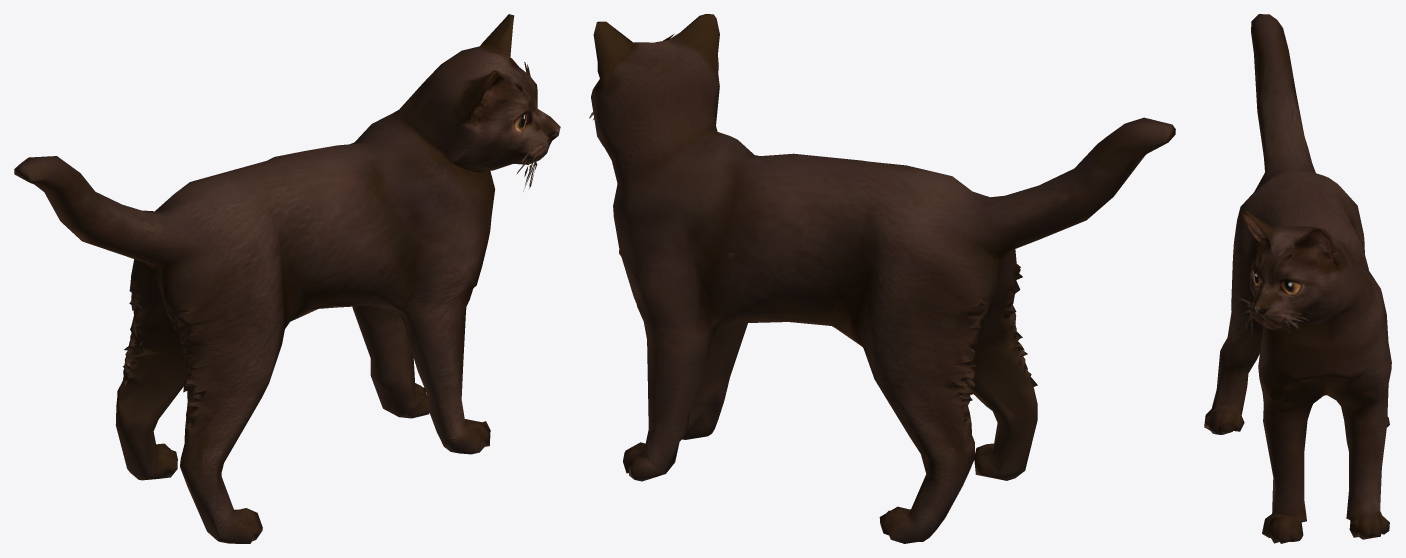
Rendered from UMBERPAW-lo.glb.
3 views of the same model, side by side, from view 1: azimuth 30°, elevation 25°; view 2: azimuth 150°, elevation 25°; view 3: azimuth 270°, elevation 25° (orthographic). The views are drawn at different scales.
Parts seen in each view (by area): view 1: tripo_node_56782b52-ac7c-49bb-a544-488ab23bb995; view 2: tripo_node_56782b52-ac7c-49bb-a544-488ab23bb995; view 3: tripo_node_56782b52-ac7c-49bb-a544-488ab23bb995.
Part boxes in pixels (left/top/right/bottom): tripo_node_56782b52-ac7c-49bb-a544-488ab23bb995: left=14, top=14, right=560, bottom=543; tripo_node_56782b52-ac7c-49bb-a544-488ab23bb995: left=589, top=14, right=1175, bottom=543; tripo_node_56782b52-ac7c-49bb-a544-488ab23bb995: left=1204, top=14, right=1391, bottom=543.
Size of the model in its own units: 1.41 by 0.993 by 0.5005.
1 material, 1 textured.
